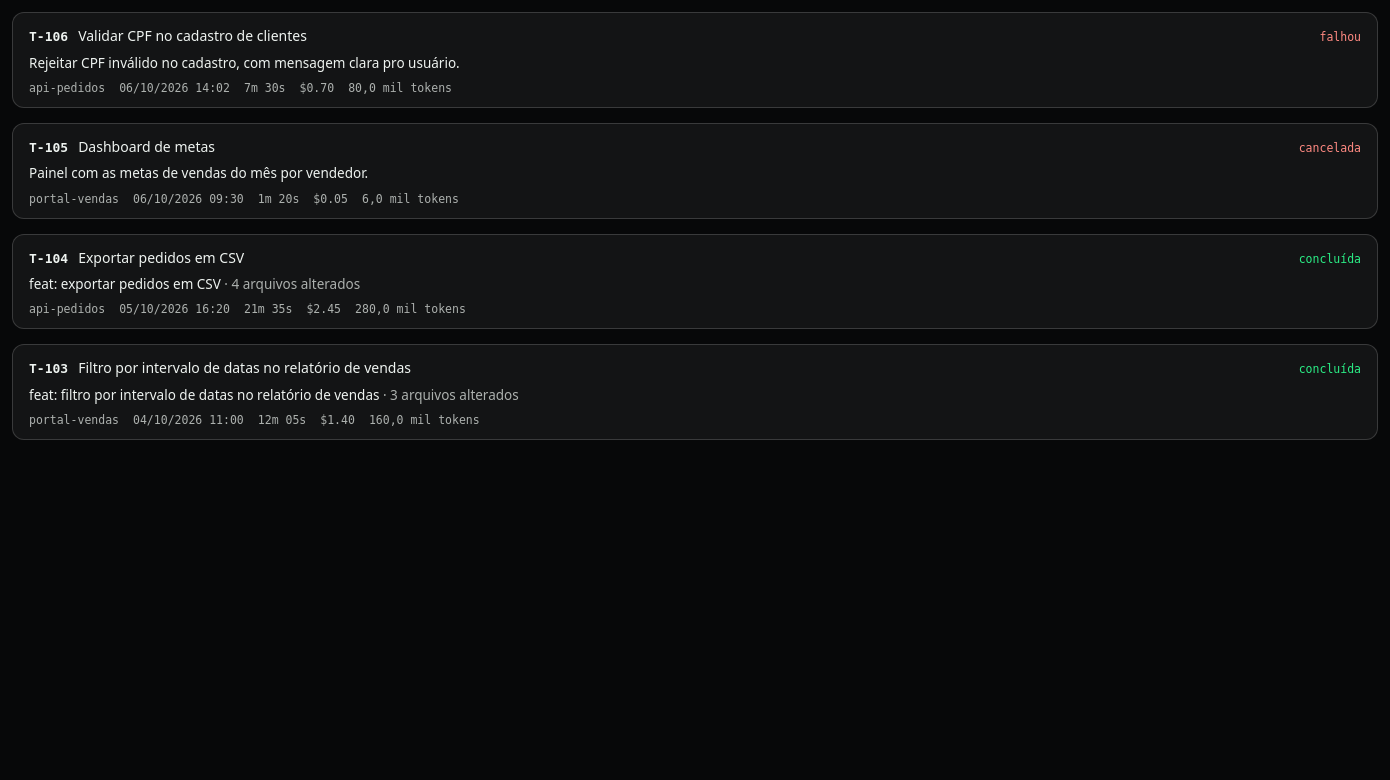
Test case: HistoryList › clicar numa tarefa antiga abre o resultado dela, só leitura, e volta pra lista
The image size is (1390, 780).
Click the button "Exportar pedidos em CSV".
click(161, 257)  # box [78,246,1289,268]
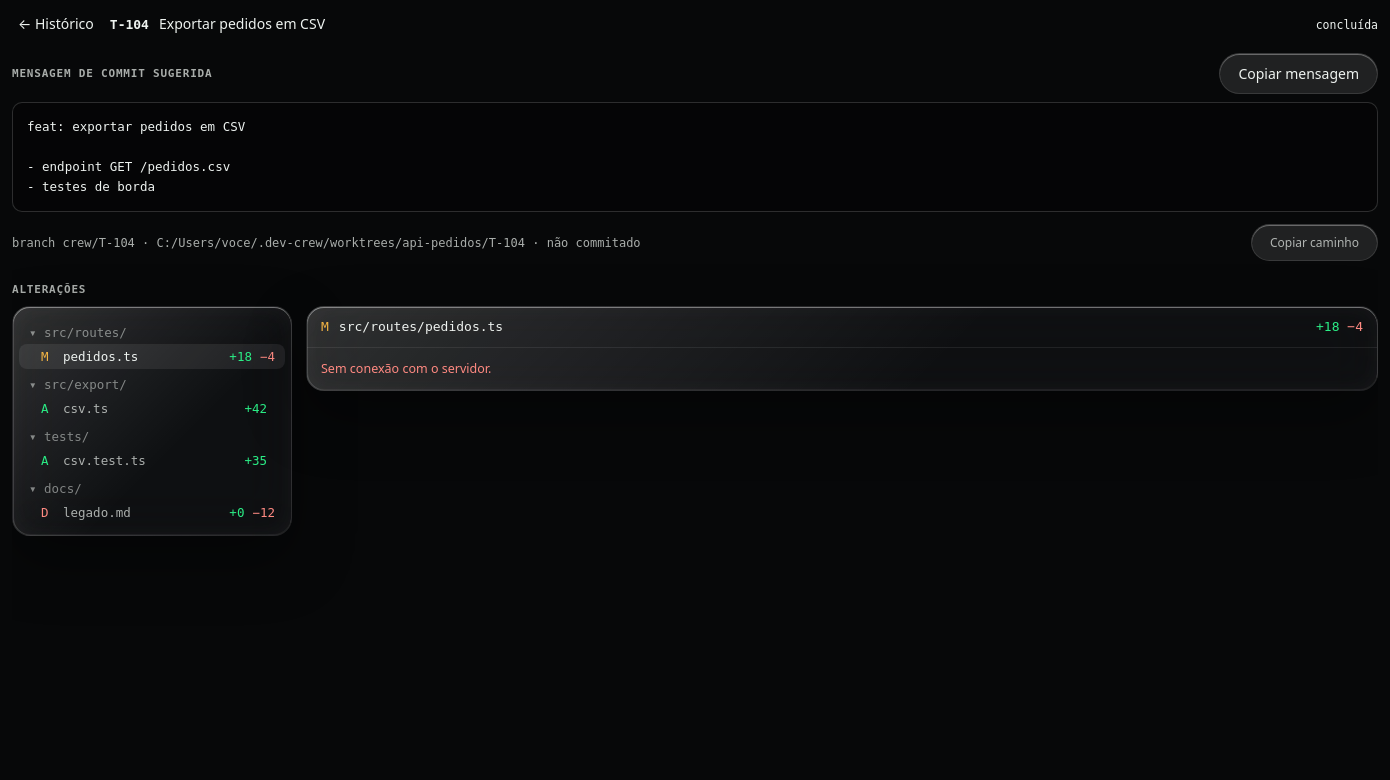
Expected: the text "concluída" is shown, [1316,18,1378,32]
Now the button titled "src/export/csv.ts" is shown, box [19,396,285,421]
Now the text "feat: exportar pedidos em CSV" is shown, box [27,119,245,194]
Click the button "← Histórico".
click(56, 24)  # box [12,12,100,35]
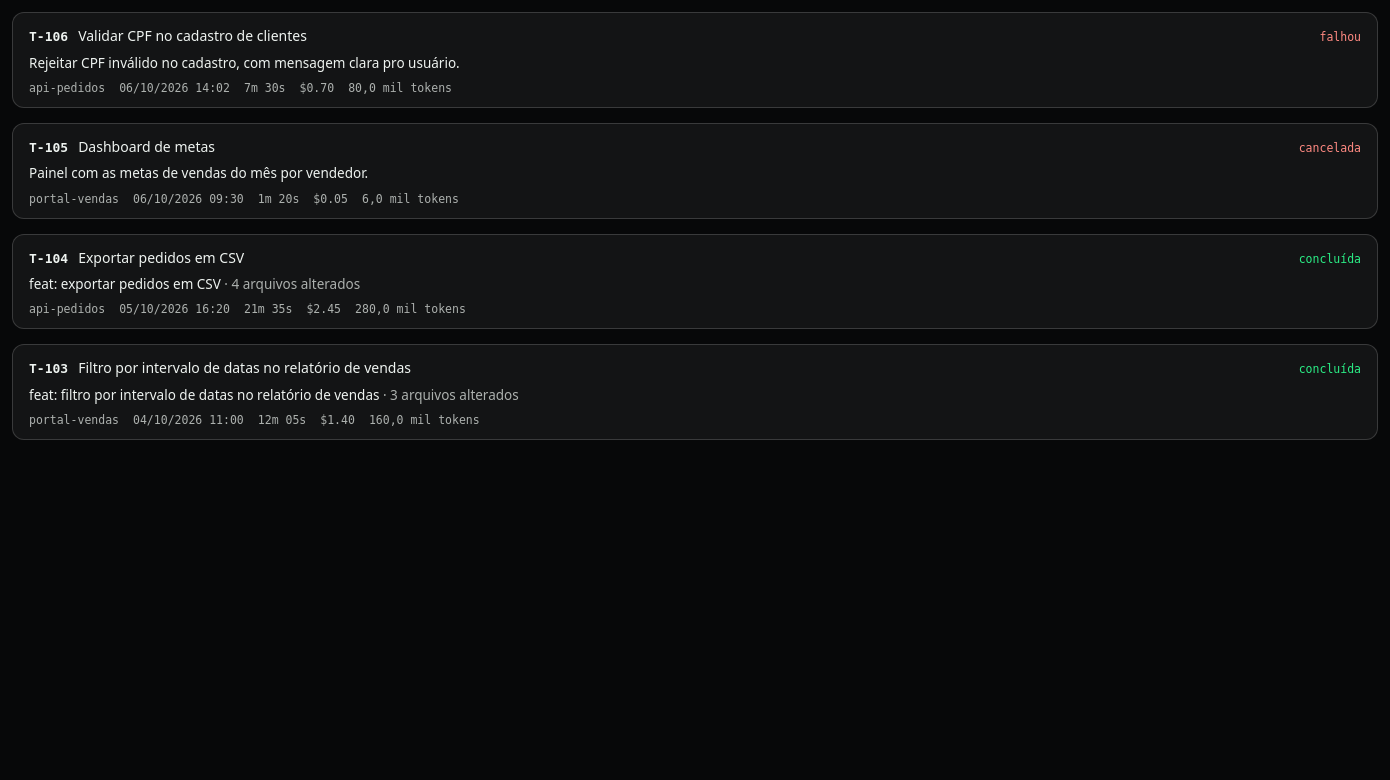
Now the number of list items is 4, box [12,12,1378,108]; [12,123,1378,219]; [12,234,1378,329]; [12,344,1378,440]
